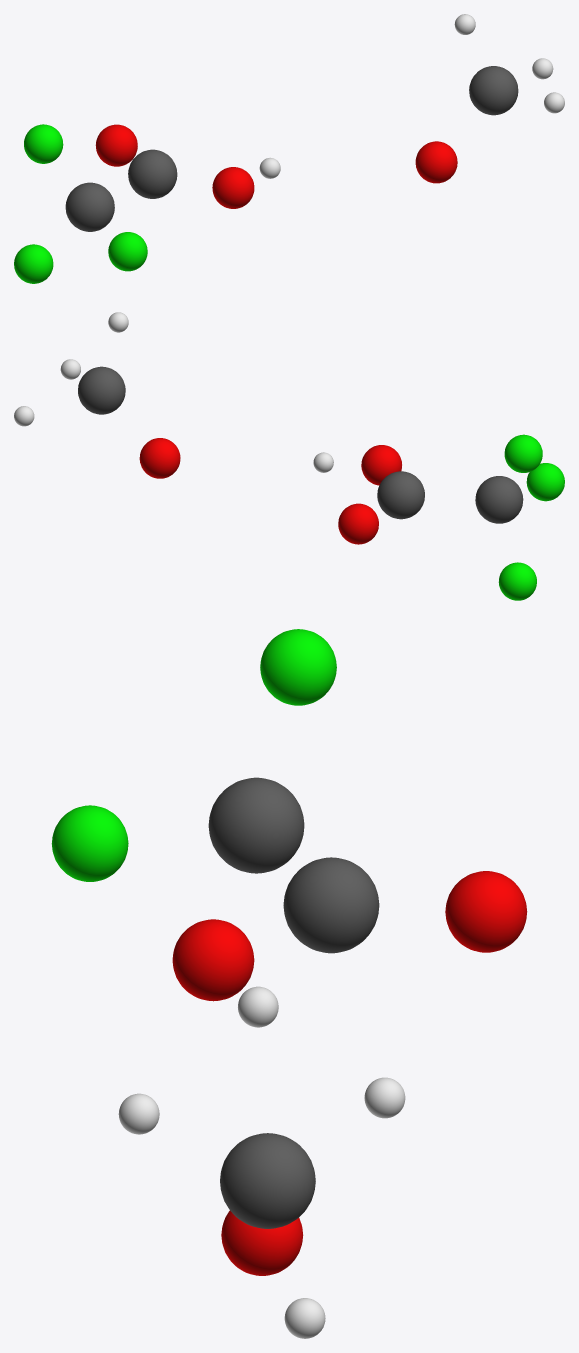
Rendered from Acid-Base_TFA_Methoxide.fbx.
The picture shows the model from 3 angles, top to bottom: view 1: azimuth 30°, elevation 25°; view 2: azimuth 150°, elevation 25°; view 3: azimuth 270°, elevation 25°; orthographic projection. The views are drawn at different scales.
Parts seen in each view (by area): view 1: C01, C09, C02, O06, O13, O07, F04, F05, F03, H12, H08, H10 (+1 smaller); view 2: C02, C09, C01, O06, O13, O07, F03, F04, F05; view 3: C09, C01, C02, O07, O06, F03, F05, O13, H11, H08, H12, H10.
Part boxes in pixels (x1=…): C01: x1=65, y1=182, x2=114, y2=231; C09: x1=469, y1=66, x2=518, y2=115; C02: x1=128, y1=149, x2=177, y2=198; O06: x1=95, y1=124, x2=137, y2=166; O13: x1=415, y1=141, x2=457, y2=183; O07: x1=212, y1=167, x2=254, y2=208; F04: x1=14, y1=244, x2=53, y2=283; F05: x1=108, y1=232, x2=147, y2=271; F03: x1=24, y1=124, x2=63, y2=163; H12: x1=532, y1=58, x2=553, y2=79; H08: x1=259, y1=157, x2=280, y2=178; H10: x1=544, y1=92, x2=564, y2=113; C02: x1=377, y1=471, x2=424, y2=519; C09: x1=78, y1=366, x2=125, y2=414; C01: x1=475, y1=476, x2=523, y2=523; O06: x1=338, y1=503, x2=378, y2=544; O13: x1=139, y1=438, x2=180, y2=478; O07: x1=361, y1=445, x2=401, y2=485; F03: x1=504, y1=434, x2=542, y2=472; F04: x1=498, y1=562, x2=536, y2=600; F05: x1=526, y1=463, x2=564, y2=501; C09: x1=220, y1=1133, x2=315, y2=1228; C01: x1=208, y1=777, x2=304, y2=873; C02: x1=283, y1=857, x2=379, y2=953; O07: x1=172, y1=919, x2=254, y2=1001; O06: x1=445, y1=871, x2=527, y2=952; F03: x1=260, y1=629, x2=336, y2=705; F05: x1=51, y1=805, x2=128, y2=881; O13: x1=221, y1=1210, x2=303, y2=1275; H11: x1=364, y1=1077, x2=405, y2=1118; H08: x1=238, y1=986, x2=278, y2=1027; H12: x1=118, y1=1093, x2=159, y2=1134; H10: x1=284, y1=1298, x2=325, y2=1338.
Bounding box in the file's own units: 948 × 270 × 372.
